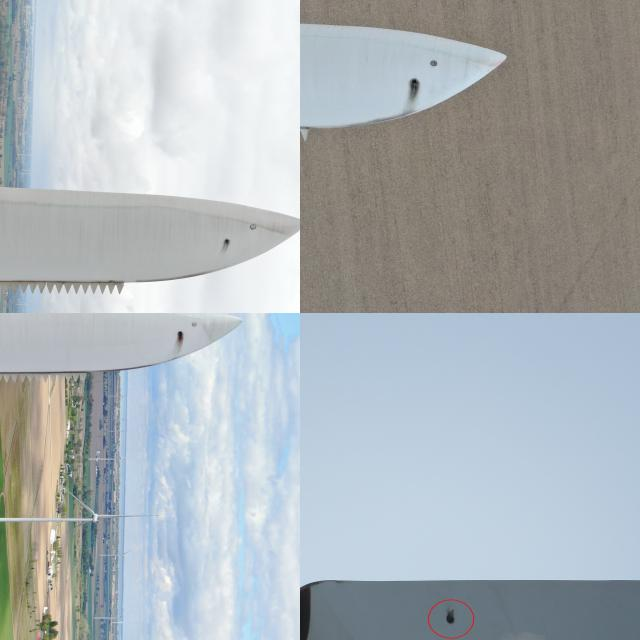damage: (394, 72, 425, 118), (441, 610, 457, 630), (172, 330, 186, 350), (217, 238, 233, 246)
